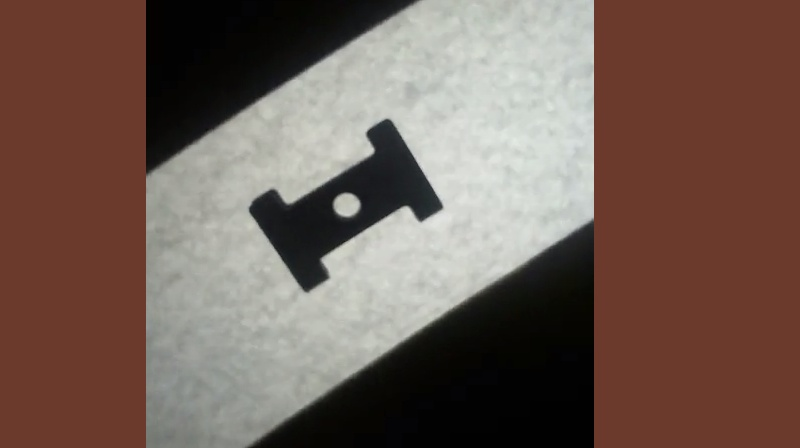O002: (246, 112, 446, 295)
